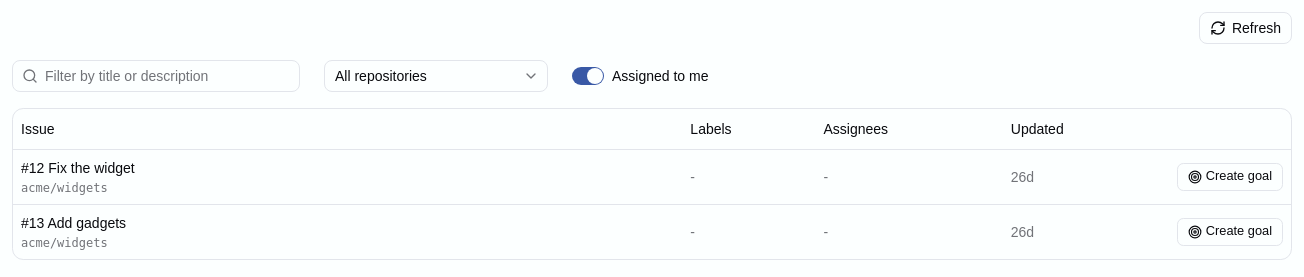
Test case: narrows the issues to the words of their title or description
This screenshot has width=1304, height=277.
Expected: the link "#13 Add gadgets" is shown, [21,214,126,230]
Type "empty" into the search field named "Filter by text" at (156, 76), box [12,60,300,92]
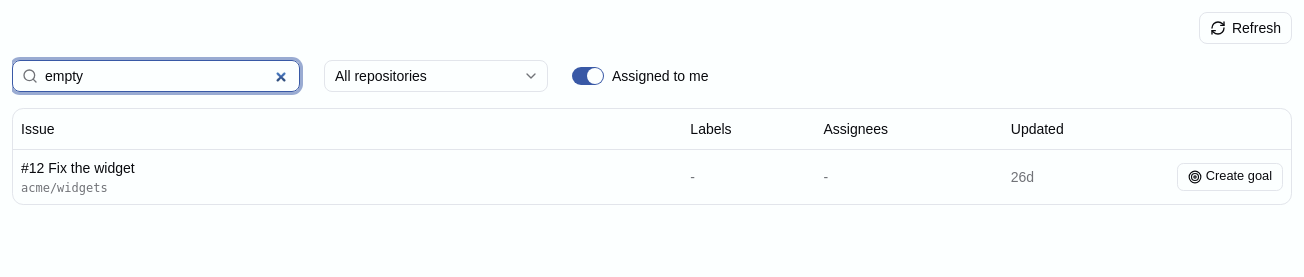
Expected: the link "#12 Fix the widget" is shown, [21,160,135,176]
Now the link "#13 Add gadgets" is gone
